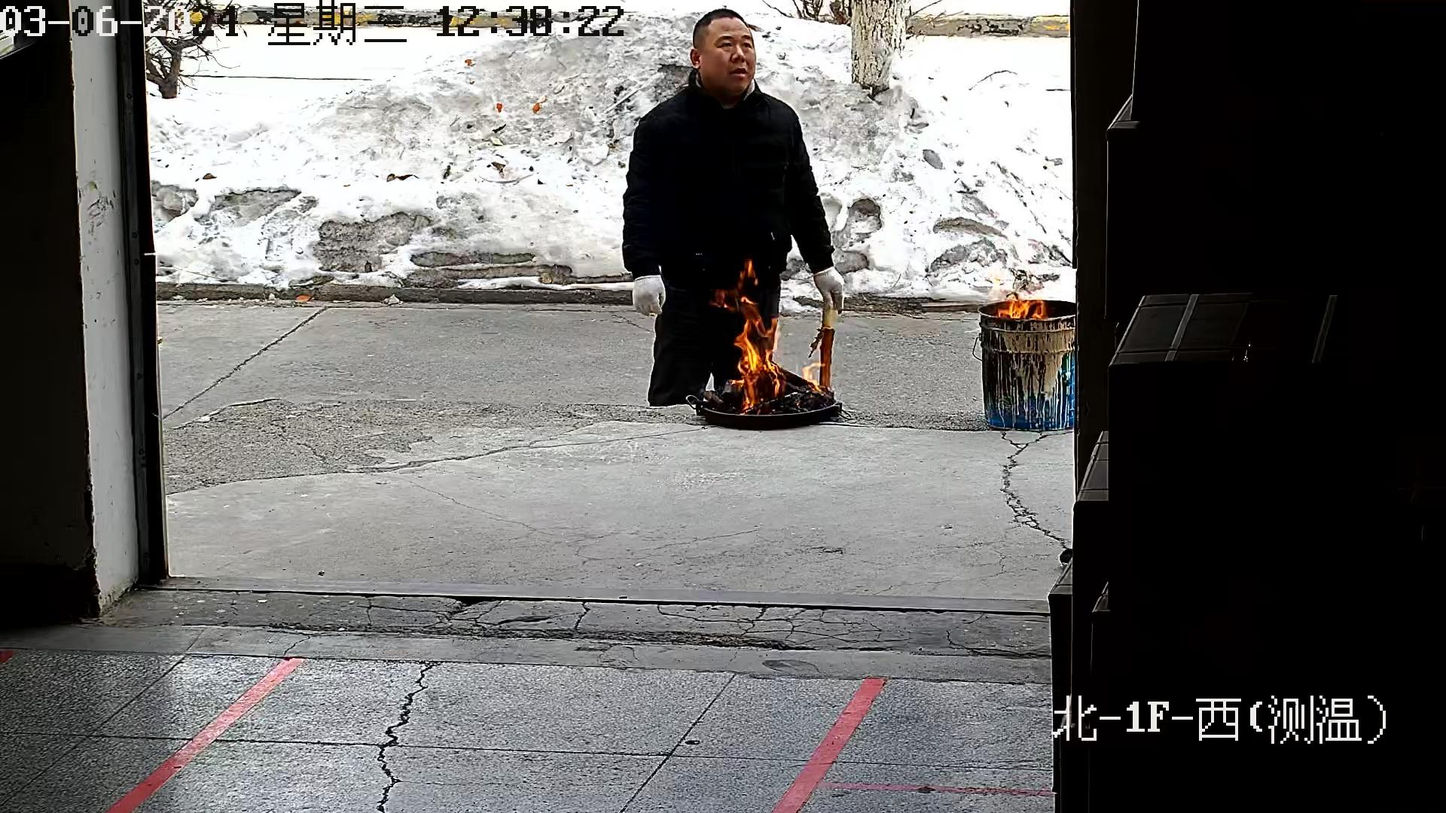fire: (731, 297, 786, 410)
